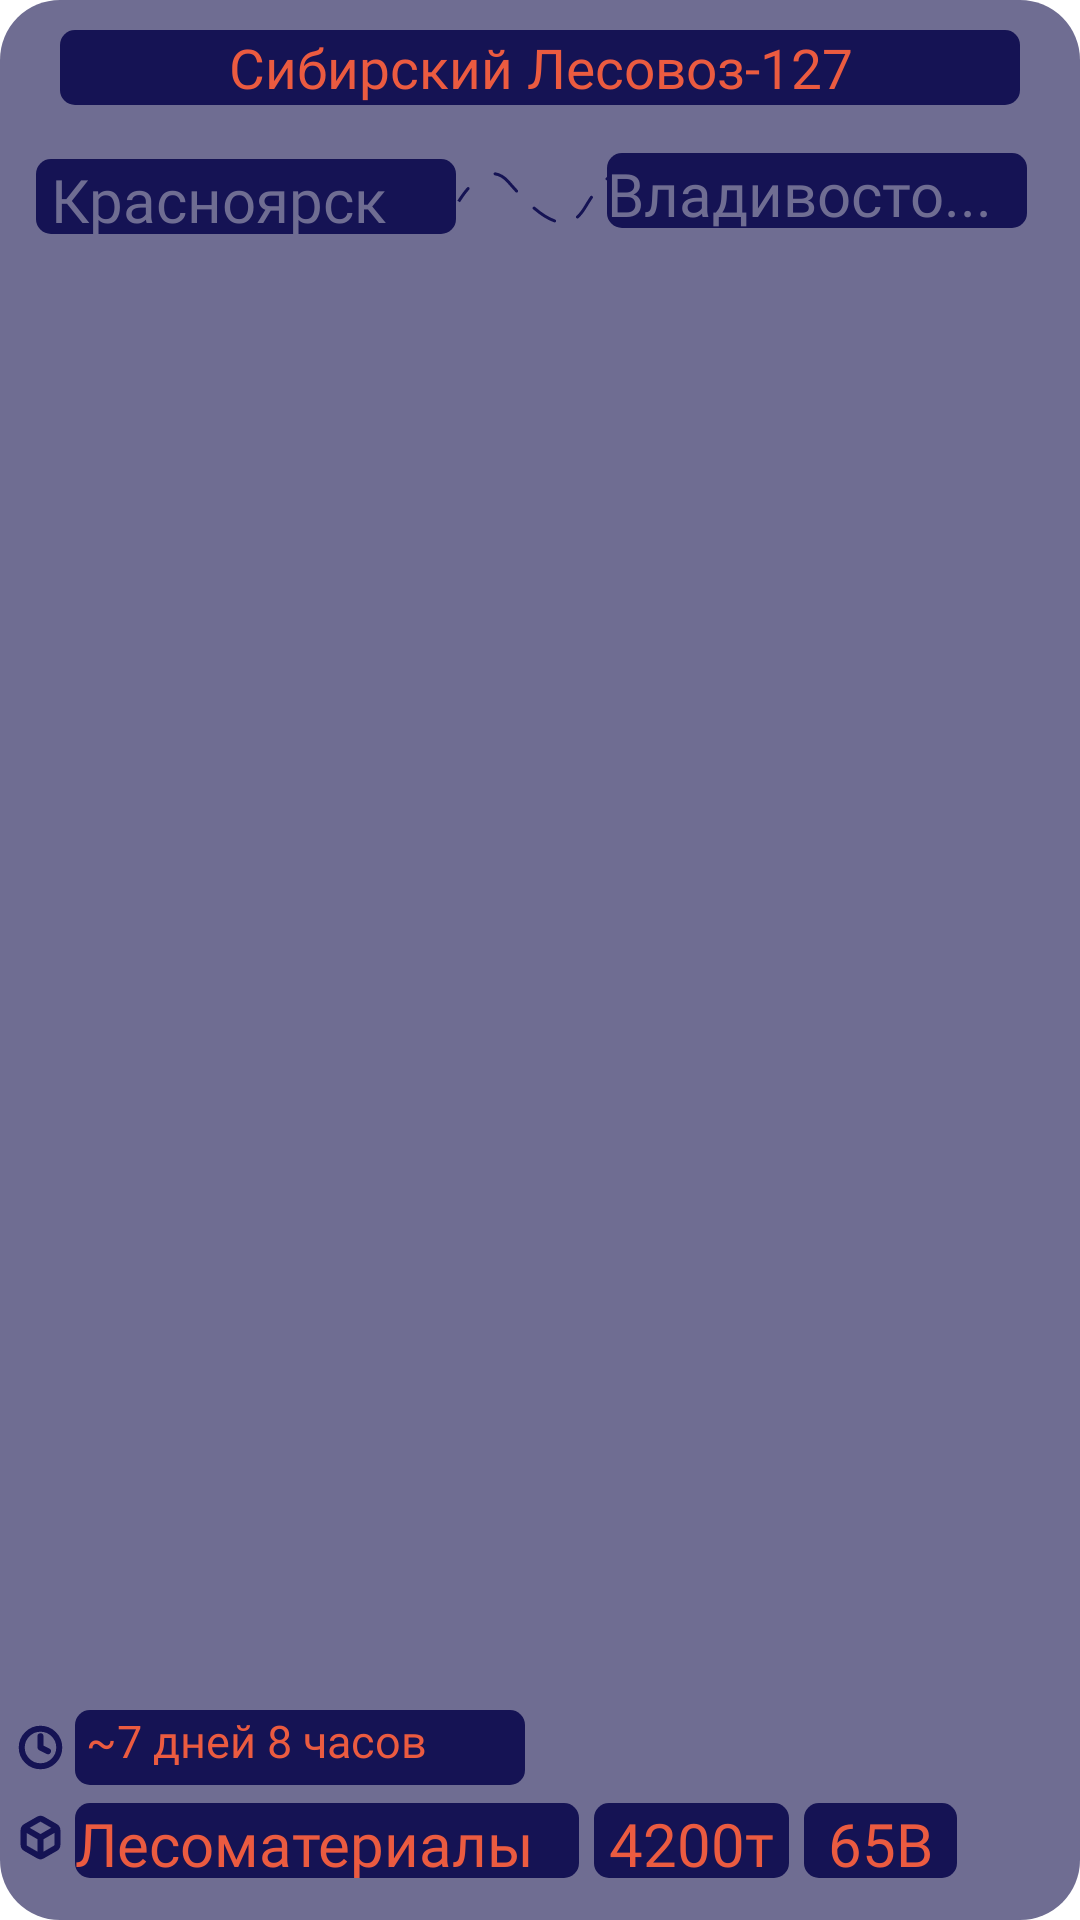

Point at icon controls on the screen. Image size 1080 × 1920, points as point (x, y).
box: point (40, 1838)
clock: point (40, 1747)
